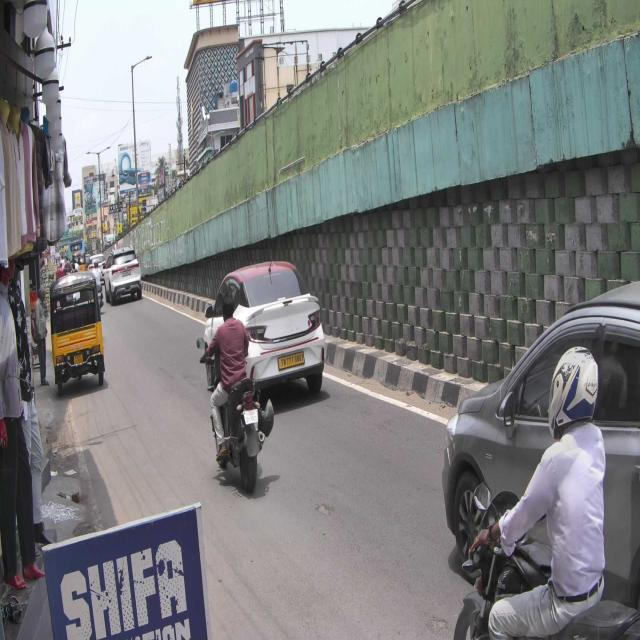single_rider: (200, 287, 272, 492)
